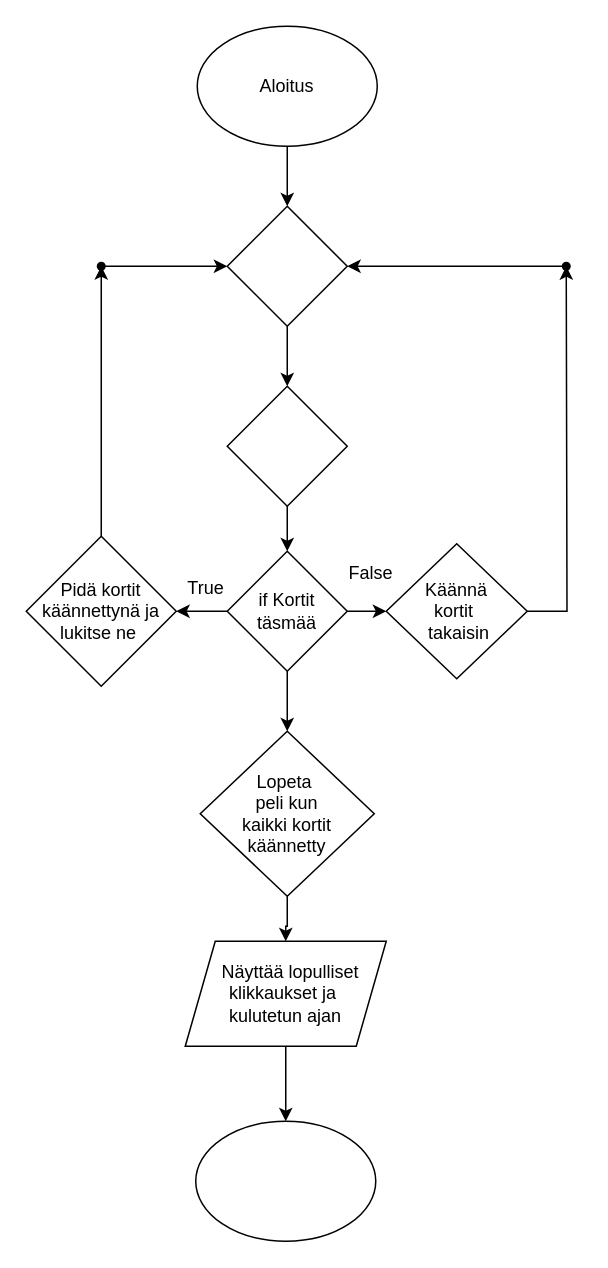
Image size: 608x1268. Some labels were removed from this diagram. Here are the shapes that lost their labels. From the top down, the centre of each, then its label:
point 286,265: Käännä kortti
point 286,445: Lukitse käännetty kortti
point 285,1180: Lopetus
